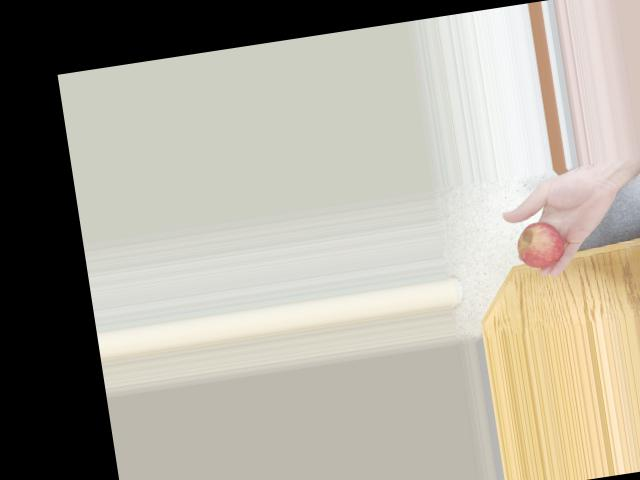apple: (512, 215, 566, 272)
